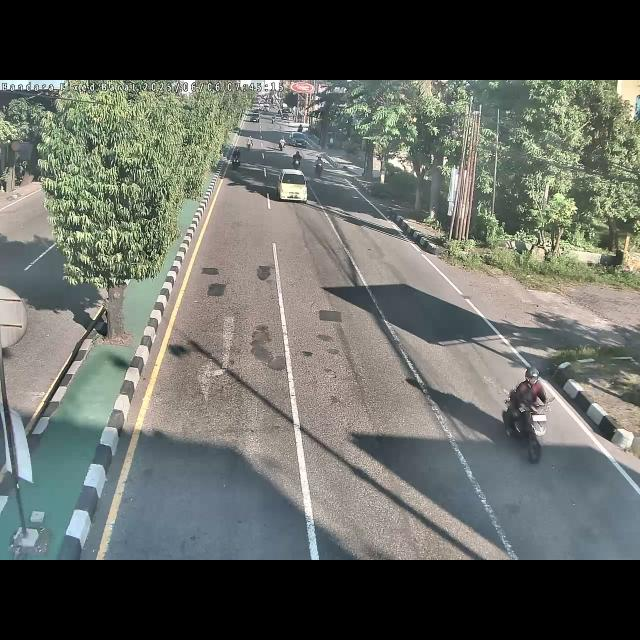Mobil: (274, 167, 310, 206)
Motor: (500, 360, 552, 472)
